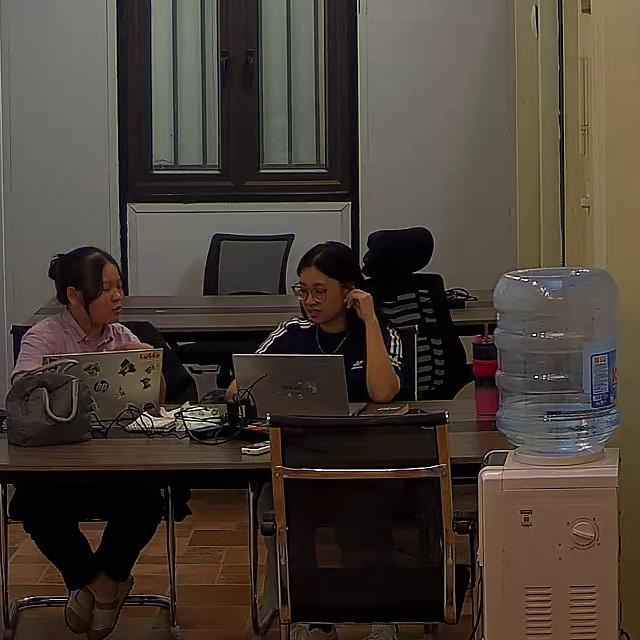no_helmet: (46, 245, 125, 303), (295, 238, 367, 296)
none: (252, 315, 407, 398), (10, 311, 161, 377)
